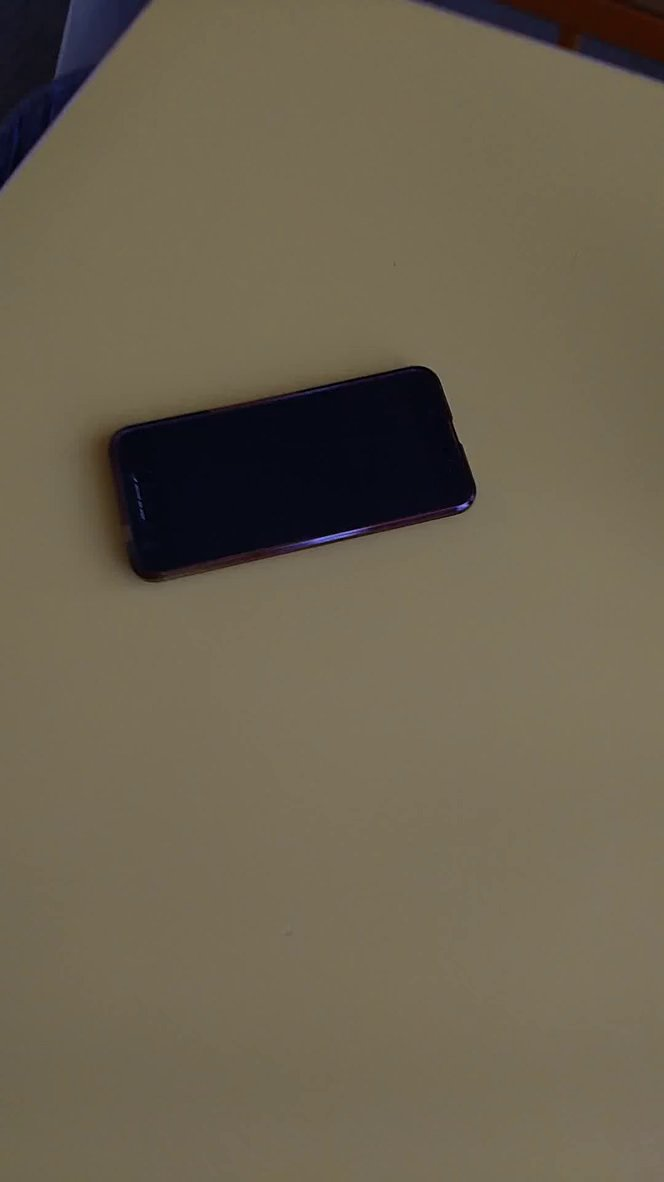phone: (94, 353, 499, 602)
